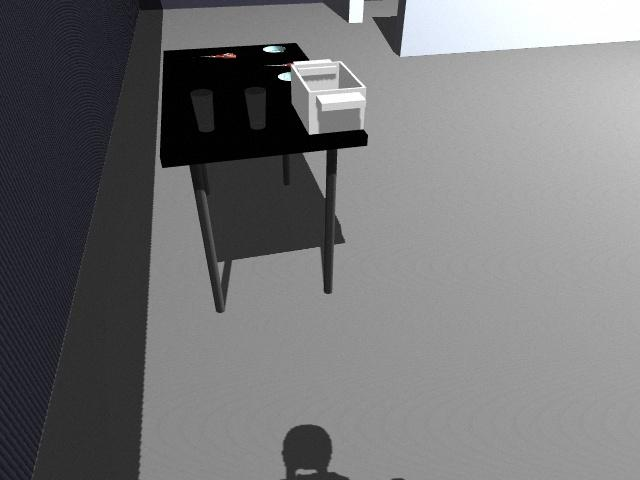cup: (190, 88, 215, 131), (244, 87, 267, 129)
plate: (263, 45, 287, 53), (278, 72, 291, 81)
scissors: (199, 53, 236, 59)
